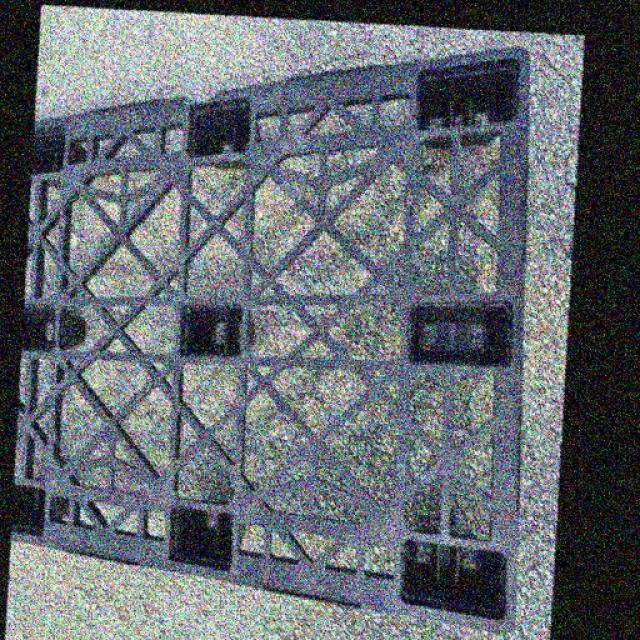non-igps: (4, 36, 538, 640)
